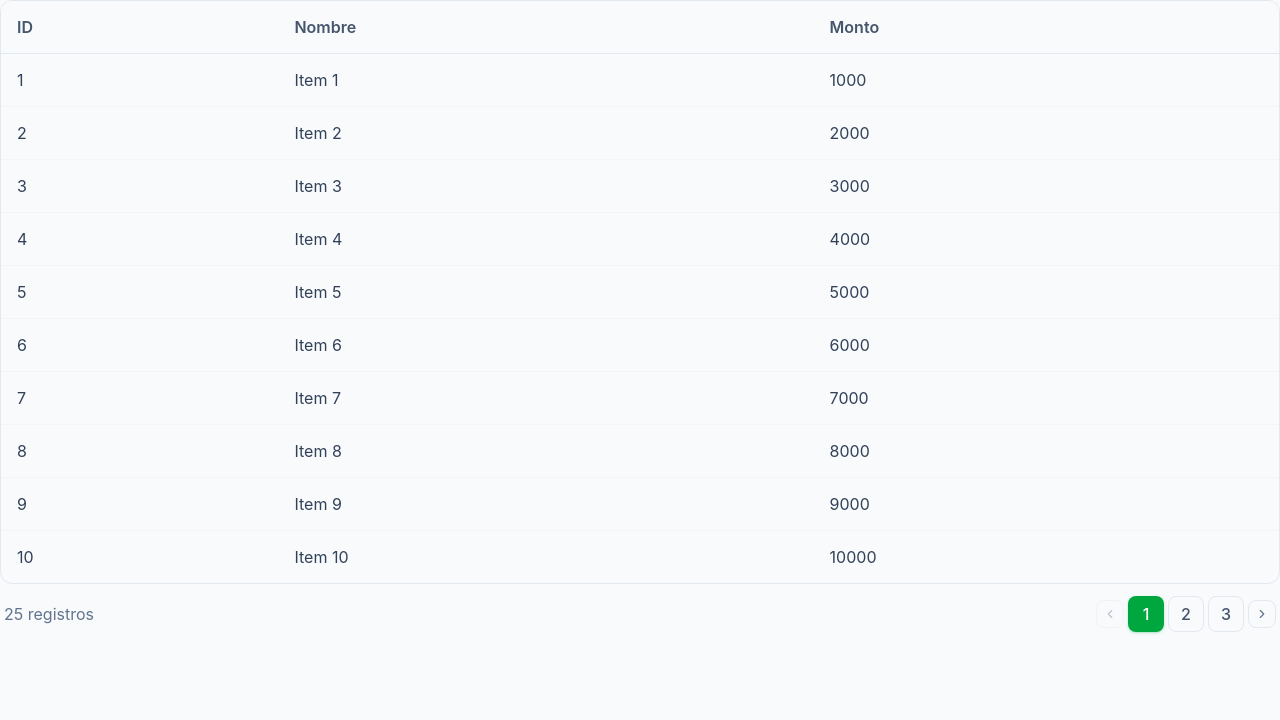
Scenario: Table — paginación client-side › navega a la página siguiente al hacer click en "Página siguiente"
Click the button named "página siguiente": (1262, 614) top-left (1248, 600), bottom-right (1276, 628)
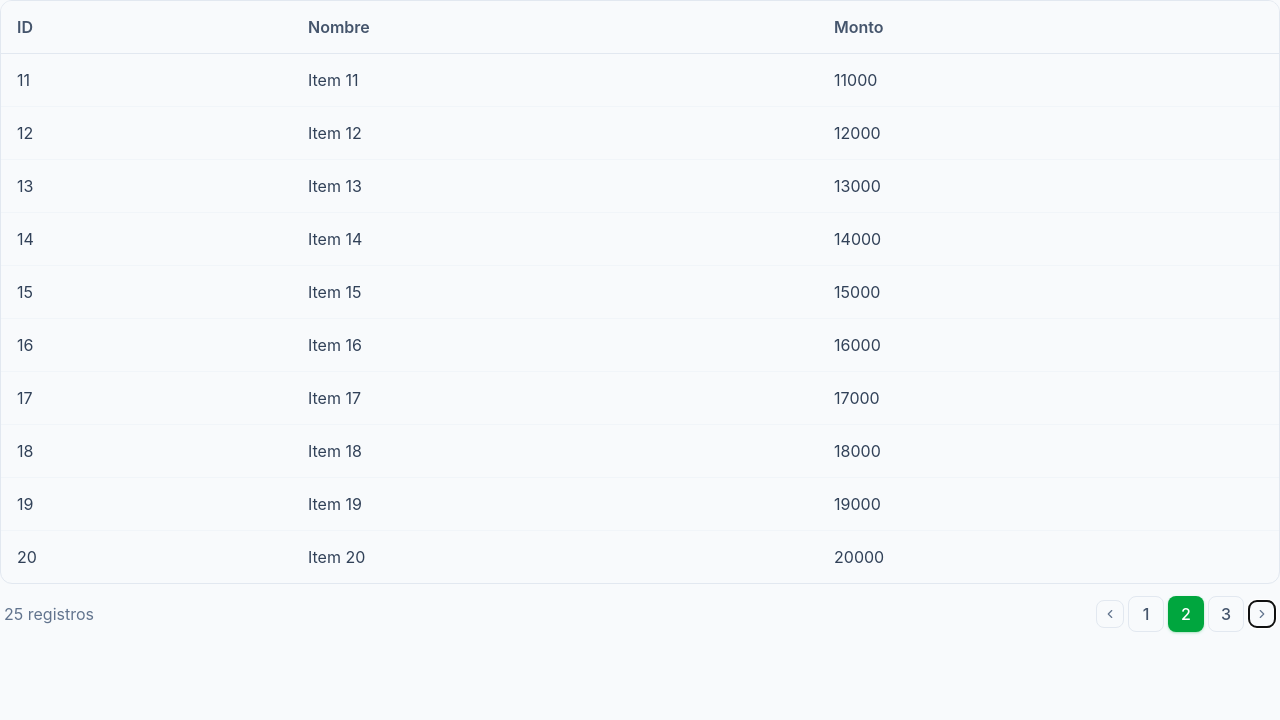
Expected: the text "Item 11" is shown, top-left (292, 54), bottom-right (818, 106)
